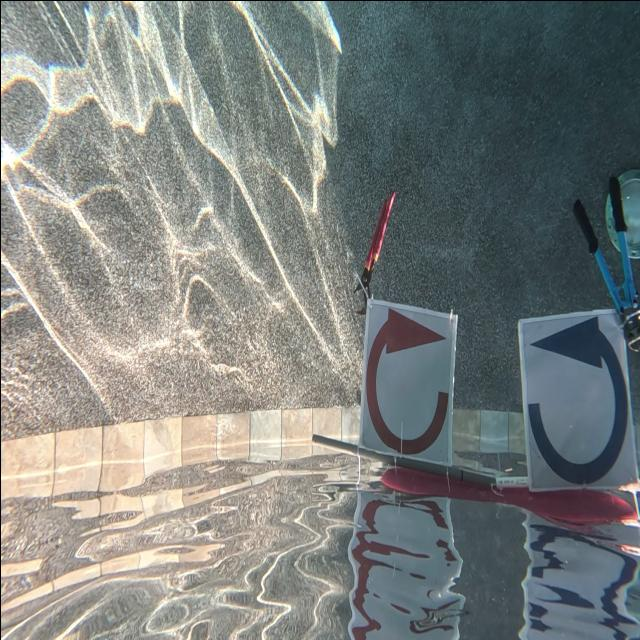blue_side: (519, 312, 635, 493)
red_side: (365, 306, 460, 468)
